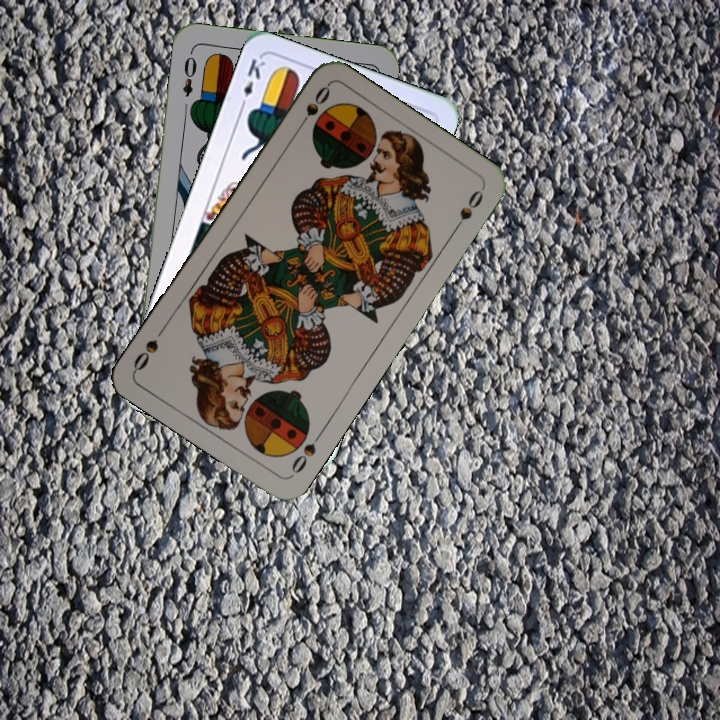EK: (235, 54, 268, 112)
EO: (178, 47, 199, 100)
SO: (293, 82, 333, 134), (287, 427, 326, 479)
